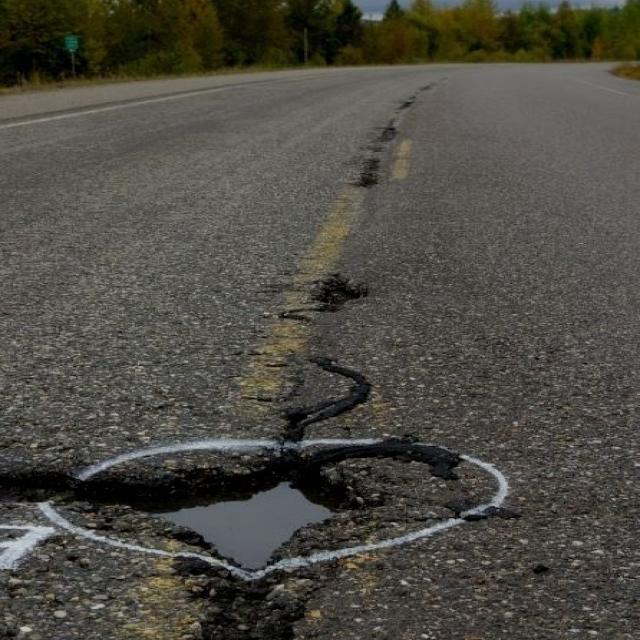road-pothole: (0, 443, 412, 589)
